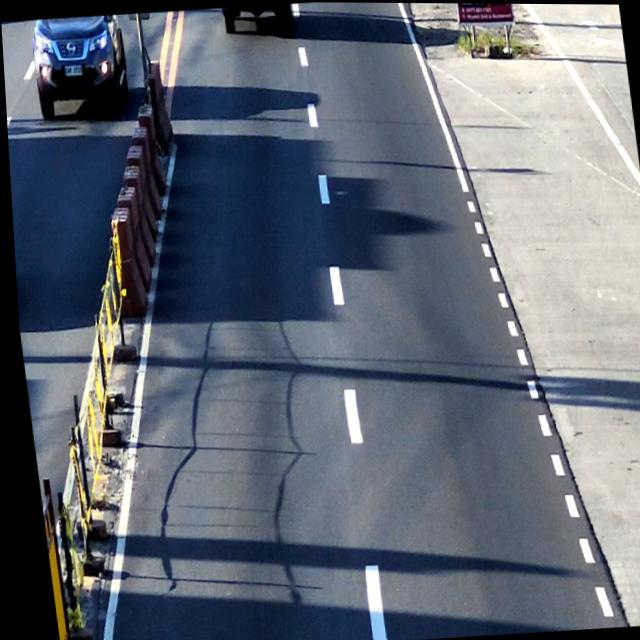License-Plate: (63, 64, 85, 77)
